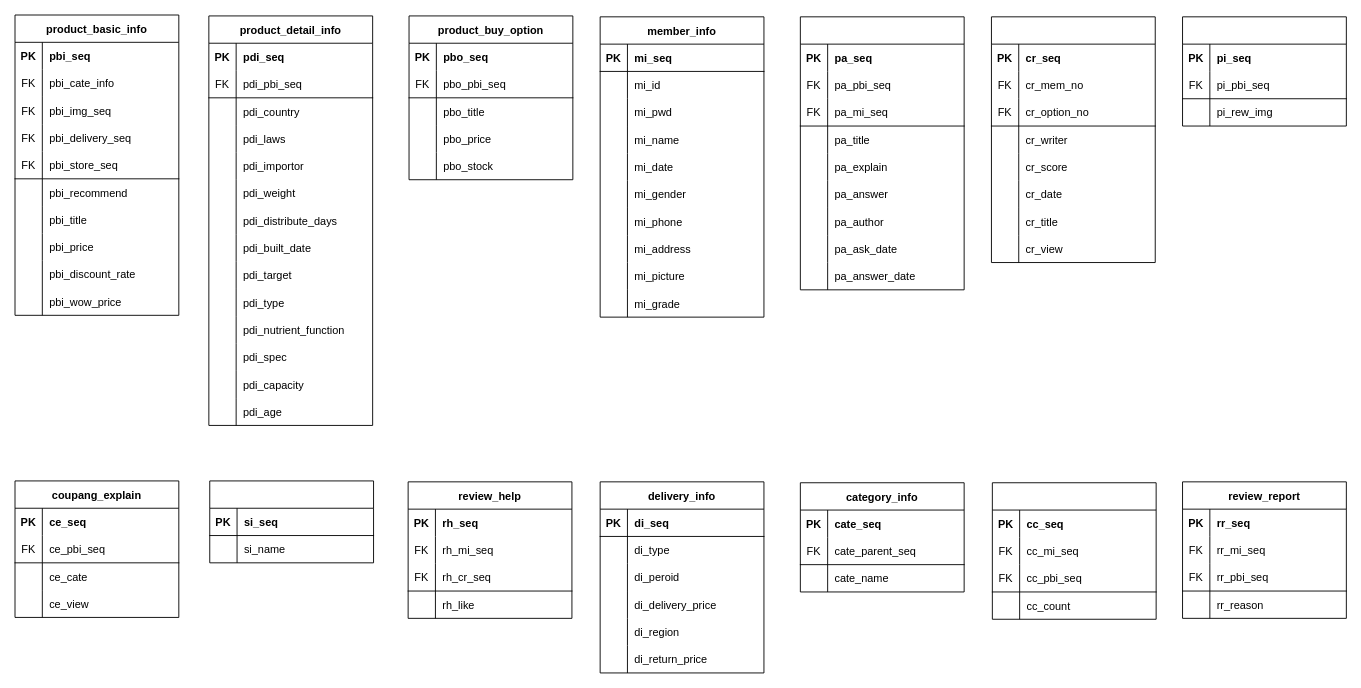
Image size: 1361x688. Some labels were removed from this diagram. Each missing label, with the box of its shape:
coupang_cart: (991, 482, 1156, 619)
coupang_review: (991, 16, 1155, 263)
product_ask: (799, 16, 964, 290)
product_img: (1182, 16, 1346, 126)
store_info: (209, 480, 374, 563)
